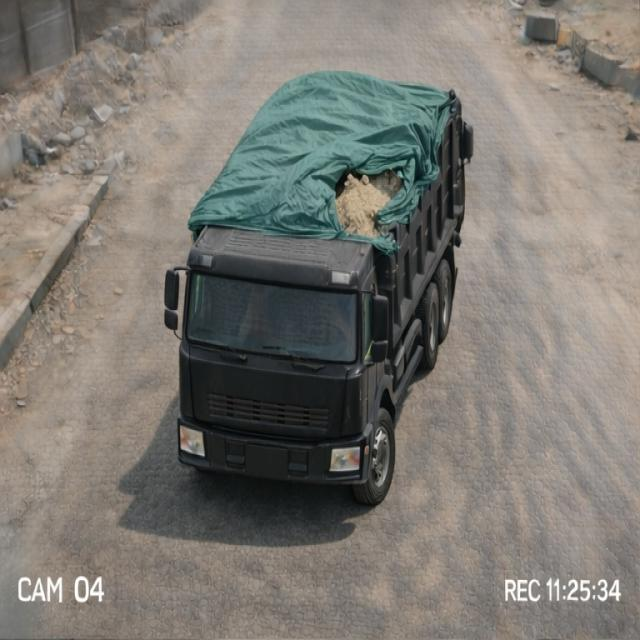Box: (195, 72, 460, 240)
Truck: (158, 24, 498, 489)
